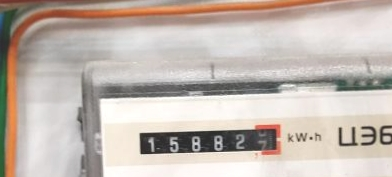1: (146, 135, 156, 153)
2: (234, 132, 245, 149)
5: (167, 135, 179, 152)
7: (256, 138, 267, 151)
8: (190, 134, 201, 151), (213, 134, 223, 150)
screen: (132, 121, 287, 159)
